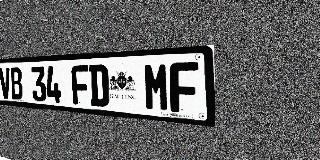3: (31, 66, 46, 102)
4: (45, 66, 61, 103)
B: (10, 67, 23, 100)
D: (89, 64, 109, 107)
F: (170, 62, 199, 114), (71, 65, 90, 106)
M: (144, 62, 170, 112)
V: (0, 68, 11, 99)
